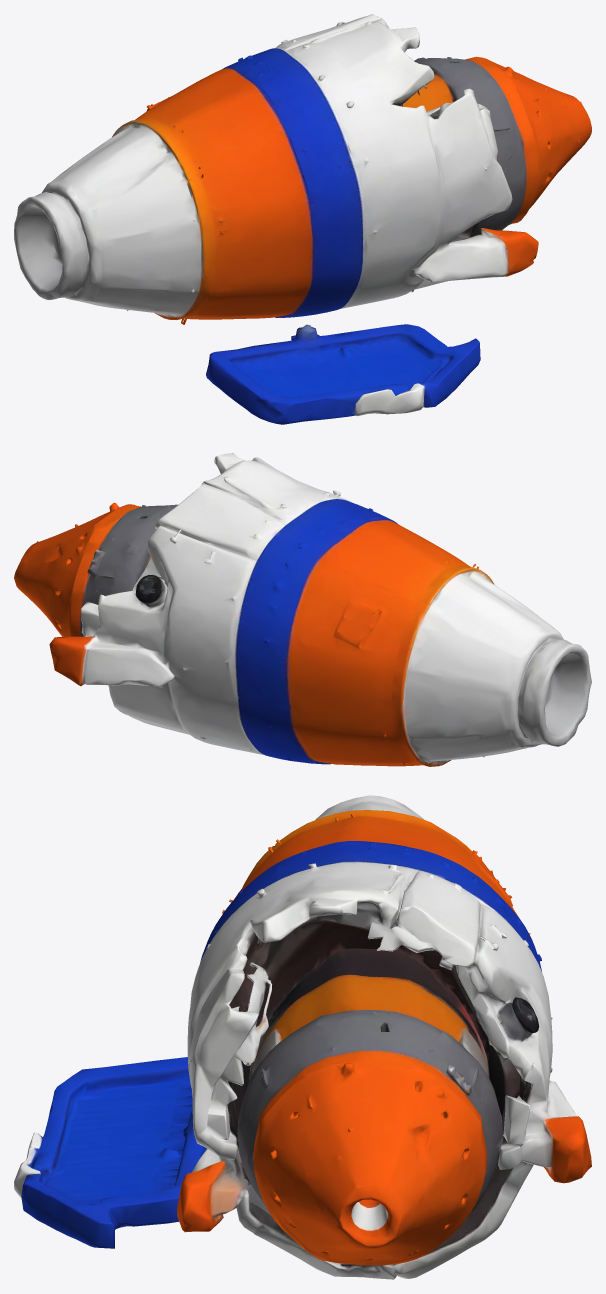
File: debris.glb
3 views of the same model, one above another, from view 1: azimuth 30°, elevation 25°; view 2: azimuth 150°, elevation 25°; view 3: azimuth 270°, elevation 25° (orthographic). The views are drawn at different scales.
Parts seen in each view (by area): view 1: tripo_node_da4e8f93-e9da-4f37-b8f0-86cf7fc791c8; view 2: tripo_node_da4e8f93-e9da-4f37-b8f0-86cf7fc791c8; view 3: tripo_node_da4e8f93-e9da-4f37-b8f0-86cf7fc791c8.
Part boxes in pixels (x1,y1,x2,y2): tripo_node_da4e8f93-e9da-4f37-b8f0-86cf7fc791c8: [14, 14, 591, 424]; tripo_node_da4e8f93-e9da-4f37-b8f0-86cf7fc791c8: [14, 453, 591, 766]; tripo_node_da4e8f93-e9da-4f37-b8f0-86cf7fc791c8: [14, 795, 591, 1279].
Size of the model in its own units: 1 by 0.4767 by 0.6791.
1 material, 1 textured.
